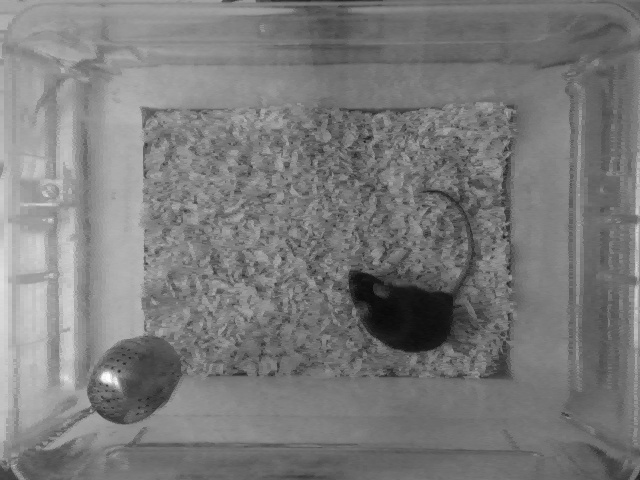mice: (343, 187, 475, 358)
